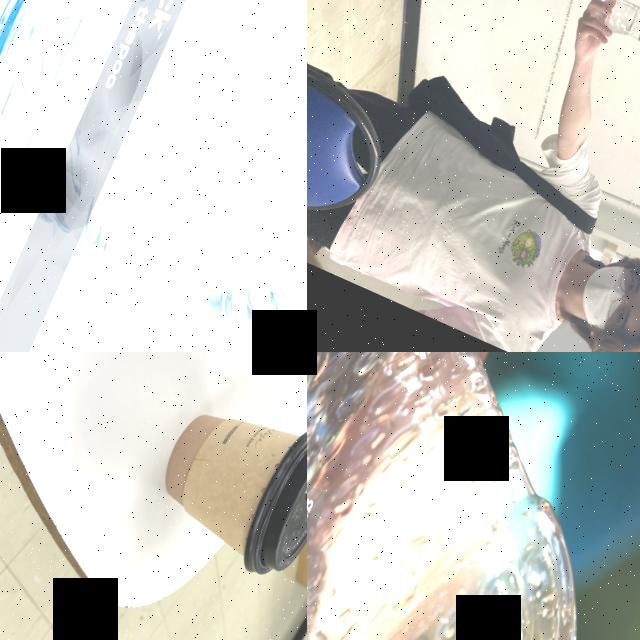bottle: (0, 0, 307, 352), (307, 352, 640, 640), (586, 0, 640, 64)
cup: (134, 374, 307, 592)
